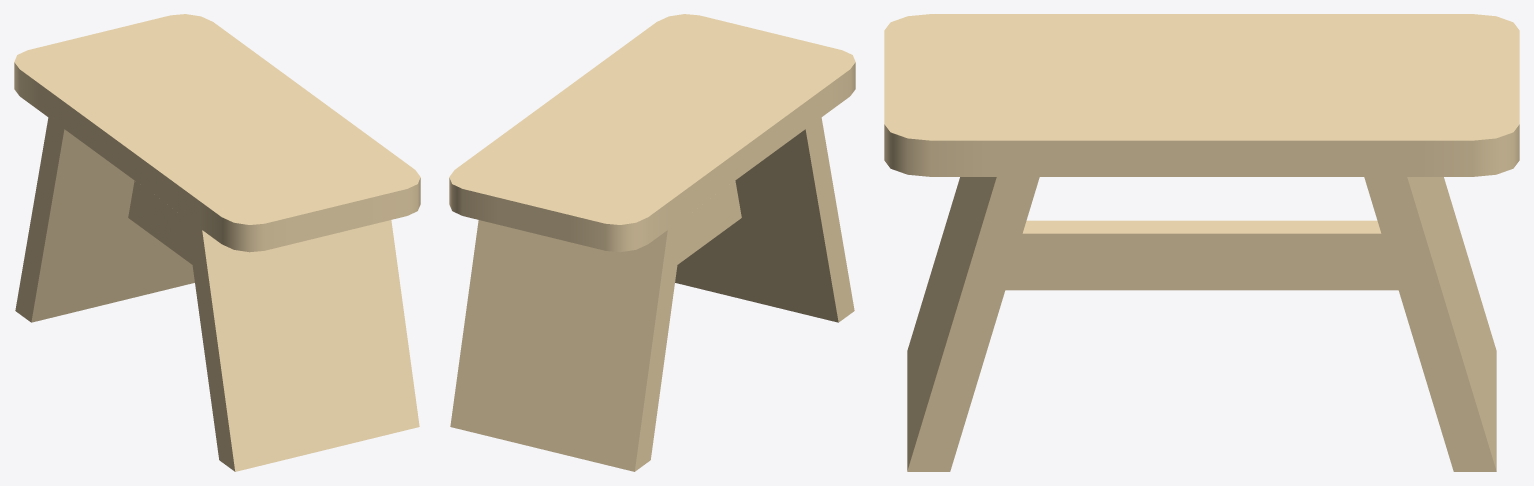
Rendered from bath chair.fbx.
The picture shows the model from 3 angles, left to right: view 1: azimuth 30°, elevation 25°; view 2: azimuth 150°, elevation 25°; view 3: azimuth 270°, elevation 25°; orthographic projection. The views are drawn at different scales.
Visible parts, largest first — view 1: bathchair; view 2: bathchair; view 3: bathchair.
Boxes of the visible parts, x1,y1,x2,y2 form: bathchair: (14,14,420,471); bathchair: (449,14,855,471); bathchair: (884,14,1519,471).
Bounding box in the file's own units: 168 × 206 × 356.
